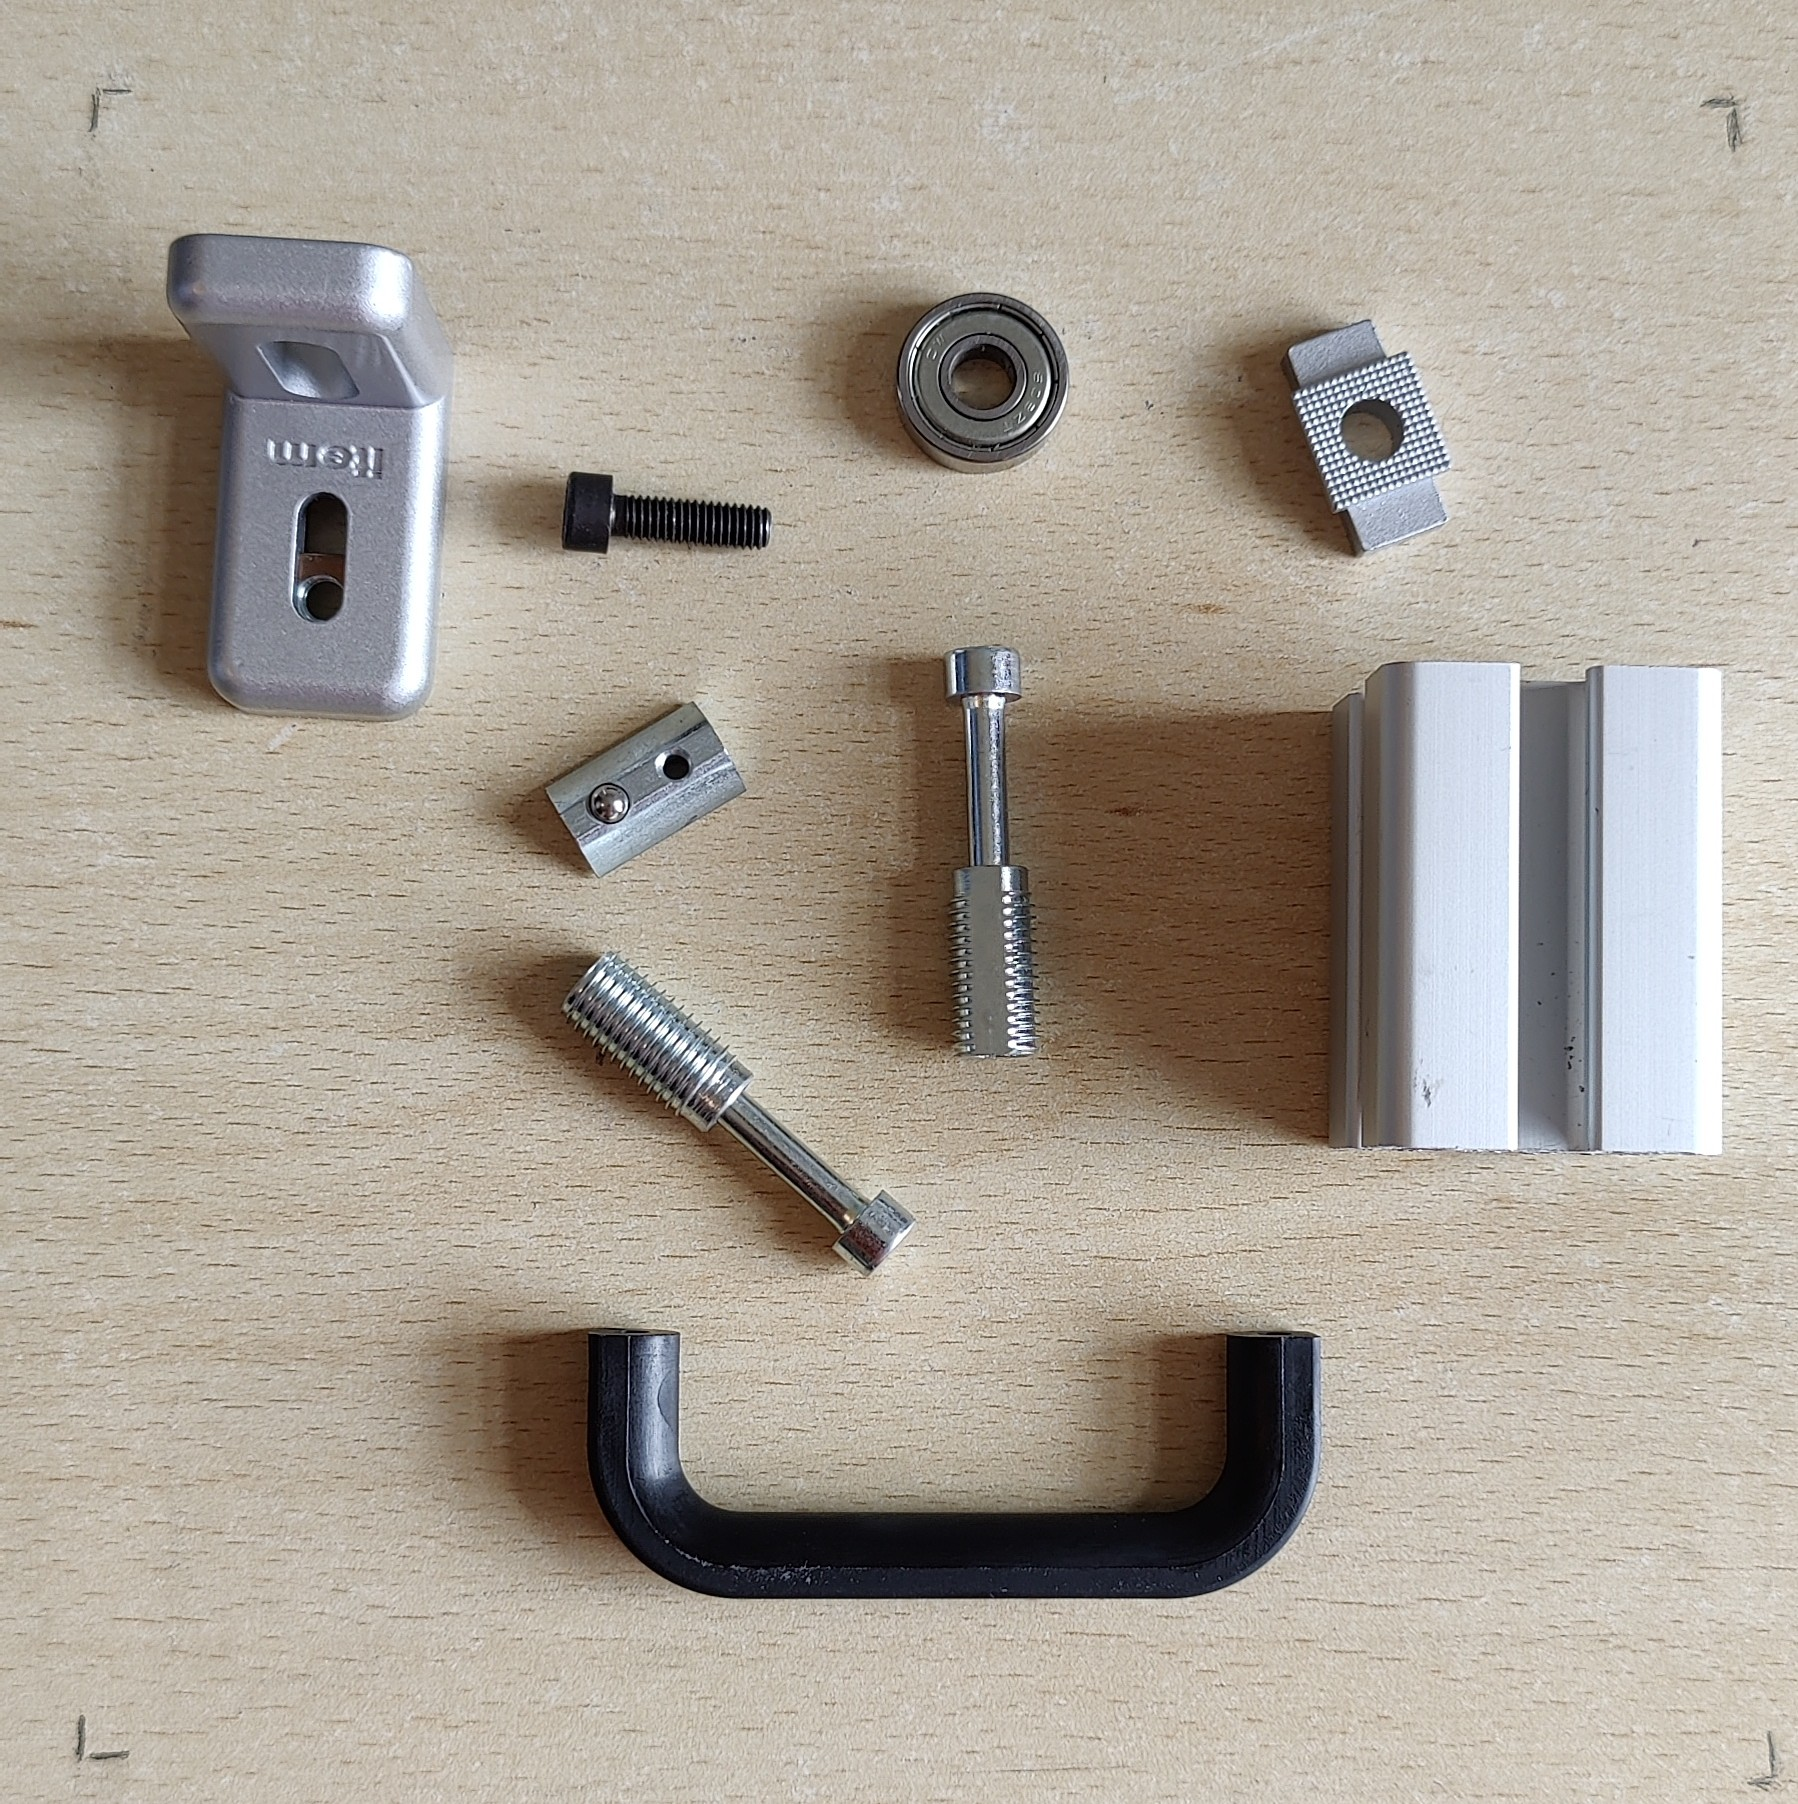Aluminium Extension: (1324, 657, 1730, 1162)
Ball Bearing: (892, 290, 1072, 477)
Multiwinkel: (161, 230, 454, 723)
Pull Handle: (581, 1323, 1324, 1603)
Shoulder Socket Head Cap Screw: (560, 950, 920, 1279), (942, 642, 1042, 1063)
Socket Head Cap Screw: (560, 466, 772, 556)
T Nut Square: (1281, 314, 1451, 561)
T Spring Nut: (543, 696, 751, 881)
